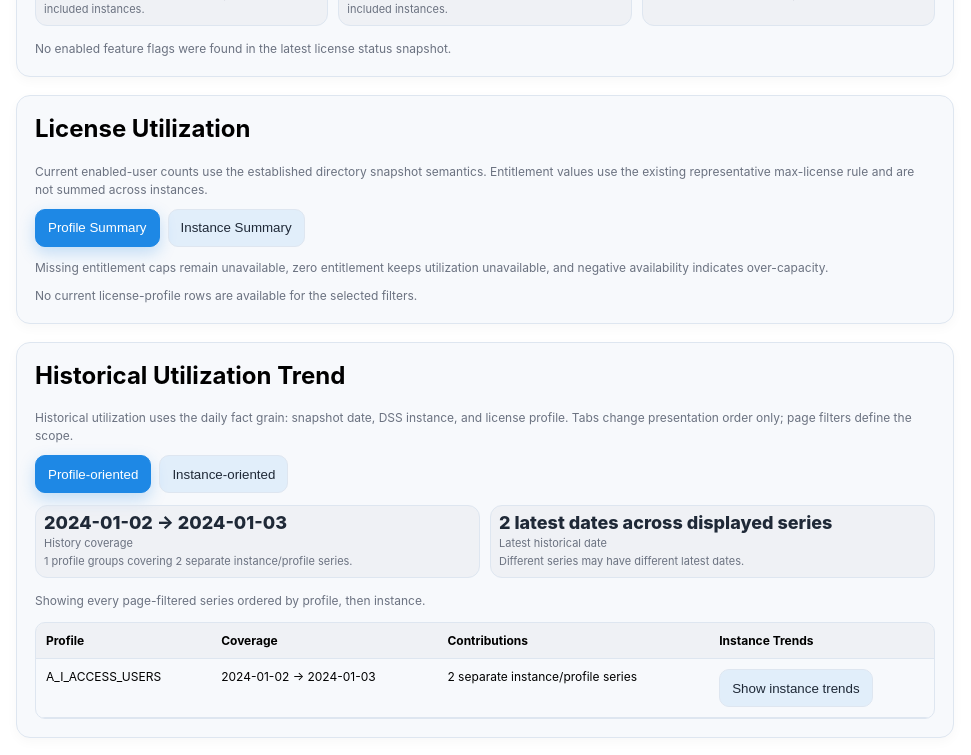
it: License utilization fact UI › profile-oriented history groups one profile with expandable instance series
(page scrolled)
Check: the text "2 separate instance/profile series" is shown, box [437,659,709,718]
Check: the column heading "Instance Trends" is shown, box [709,623,934,659]
Click the button "Show instance trends": (796, 688) [719,669,873,707]
(page scrolled)
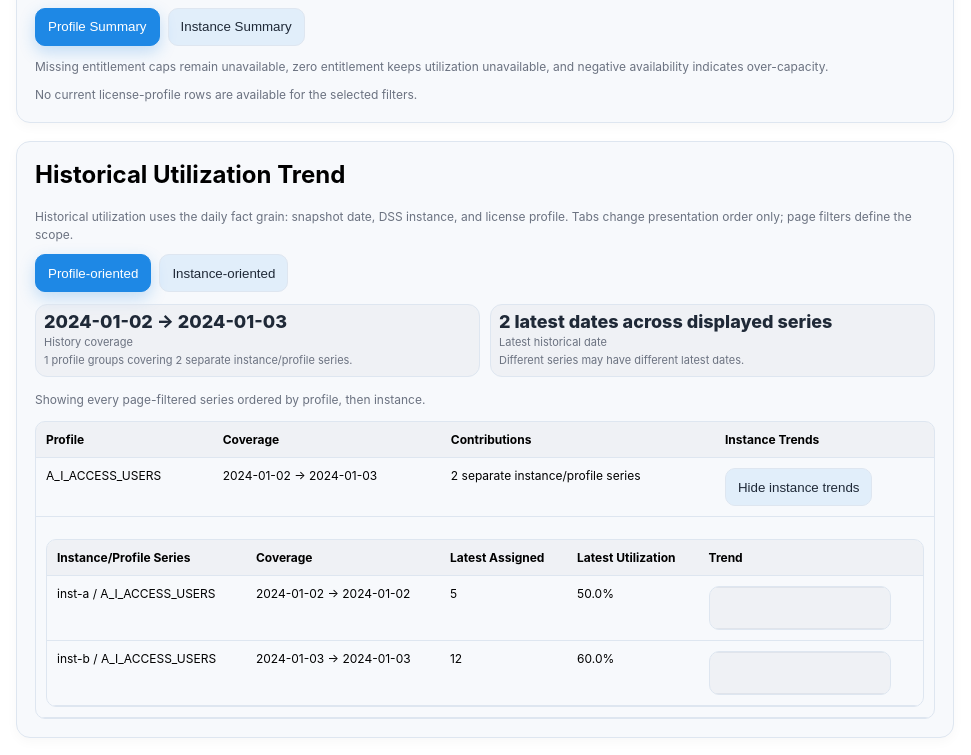
Check: the text "inst-a / A_I_ACCESS_USERS" is shown, box [47,576,246,641]
Check: the text "inst-b / A_I_ACCESS_USERS" is shown, box [47,641,246,706]
Check: the text "5" is shown, box [440,576,567,641]
